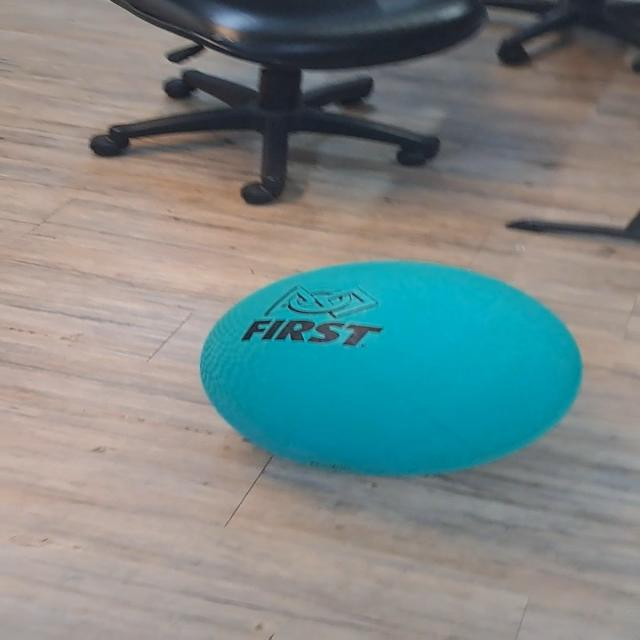ALGAE: (196, 258, 584, 478)
